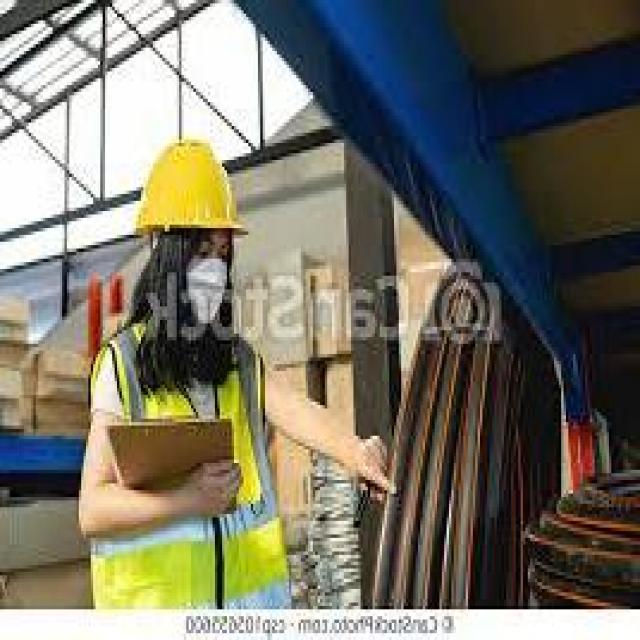Reflective-Jacket: (79, 316, 289, 612)
Safety-Helmet: (117, 122, 258, 258)
